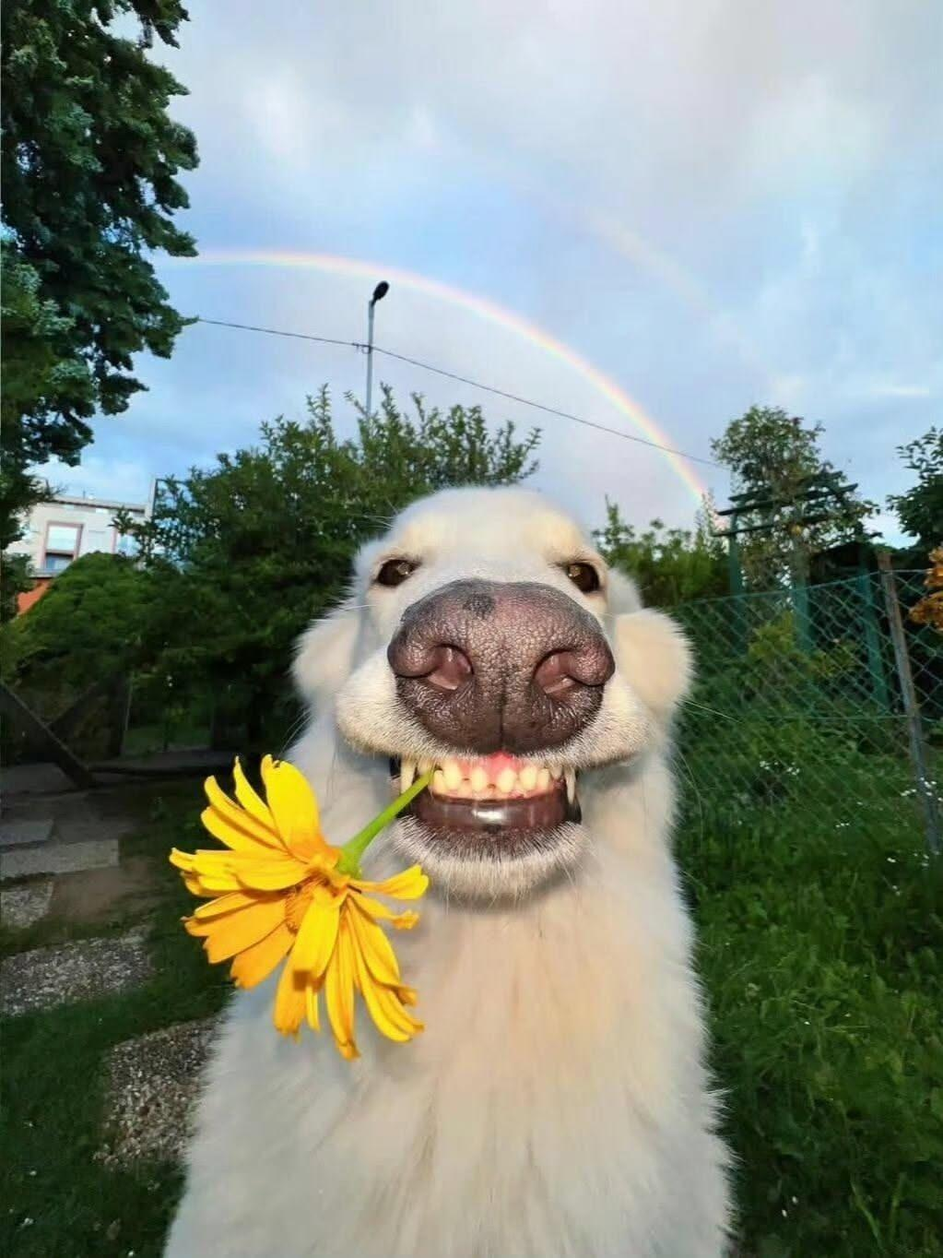adult_dog: (156, 482, 741, 1258)
